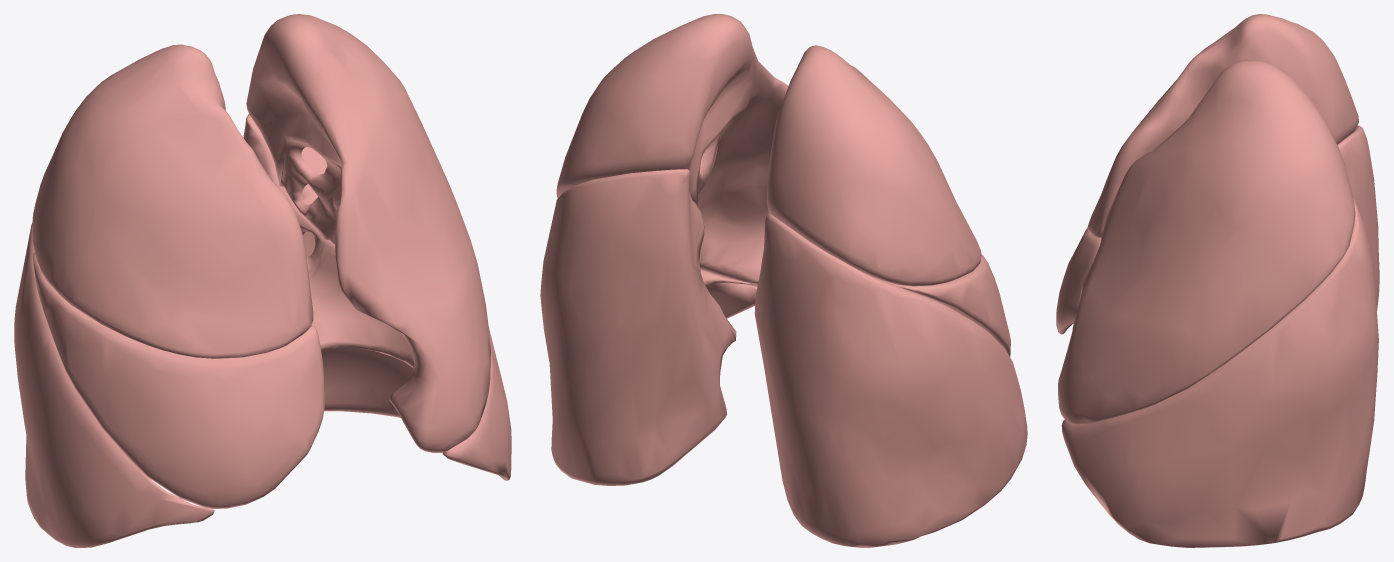
Rendered from arbre-bronchique.glb.
3 renders of one model, left to right at view 1: azimuth 30°, elevation 25°; view 2: azimuth 150°, elevation 25°; view 3: azimuth 270°, elevation 25°, orthographic. The views are drawn at different scales.
Visible parts, largest first — view 1: Superior lobe of right lung, Superior lobe of left lung, Middle lobe of right lung, Inferior lobe of right lung, Inferior lobe of left lung; view 2: Inferior lobe of right lung, Inferior lobe of left lung, Superior lobe of left lung, Superior lobe of right lung, Middle lobe of right lung; view 3: Superior lobe of left lung, Inferior lobe of left lung, Superior lobe of right lung, Inferior lobe of right lung, Middle lobe of right lung.
Part boxes in pixels (x1,y1,x2,y2): Superior lobe of right lung: (32,44,313,358); Superior lobe of left lung: (246,14,490,452); Middle lobe of right lung: (32,252,325,508); Inferior lobe of right lung: (14,223,214,547); Inferior lobe of left lung: (243,114,511,480); Inferior lobe of right lung: (754,214,1027,547); Inferior lobe of left lung: (540,169,757,485); Superior lobe of left lung: (556,14,788,287); Superior lobe of right lung: (766,45,981,286); Middle lobe of right lung: (879,254,1010,356); Superior lobe of left lung: (1058,60,1355,424); Inferior lobe of left lung: (1061,198,1378,547); Superior lobe of right lung: (1087,14,1358,237); Inferior lobe of right lung: (1073,125,1379,323); Middle lobe of right lung: (1056,228,1101,334).
Bounding box in the file's own units: 0.2607 × 0.2638 × 0.1856.
